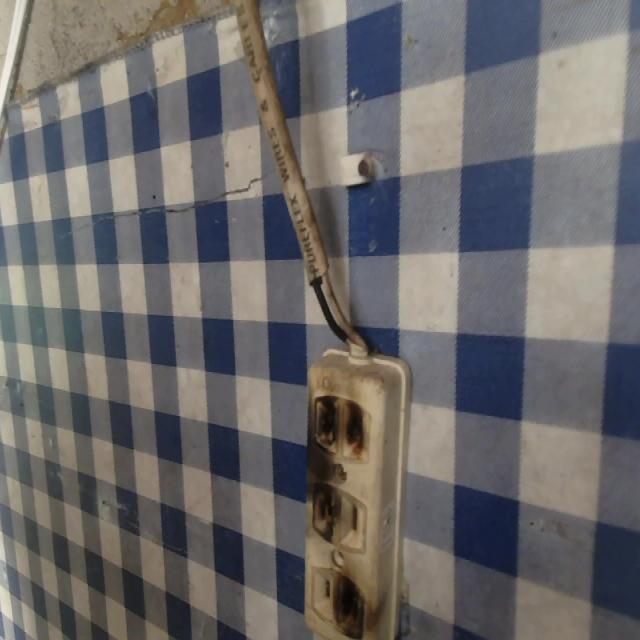-: (308, 385, 376, 468), (333, 564, 366, 639), (305, 482, 343, 542)
